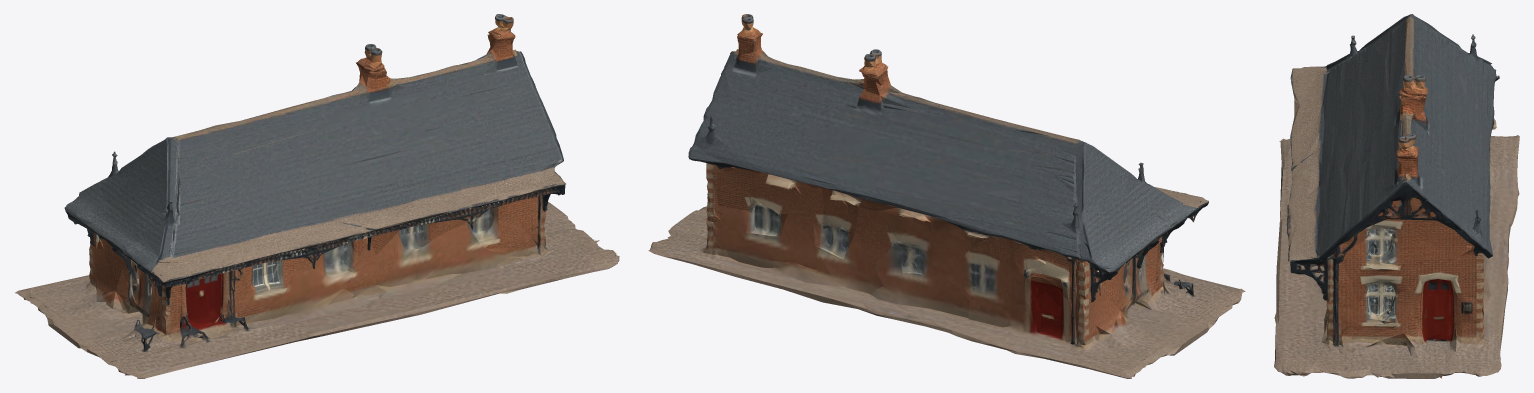
File: station.glb
The picture shows the model from 3 angles, left to right: view 1: azimuth 30°, elevation 25°; view 2: azimuth 150°, elevation 25°; view 3: azimuth 270°, elevation 25°; orthographic projection.
Visible parts, largest first — view 1: output_unwrapped; view 2: output_unwrapped; view 3: output_unwrapped.
Boxes of the visible parts, x1,y1,x2,y2 form: output_unwrapped: (15,14,619,378); output_unwrapped: (648,14,1245,378); output_unwrapped: (1274,14,1519,378).
Bounding box in the file's own units: 30 × 12.38 × 12.84.
1 material, 1 textured.
